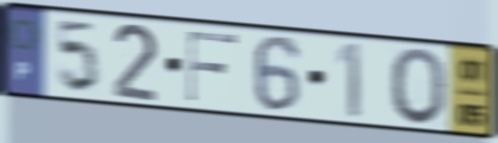1: (334, 39, 364, 122)
2: (112, 21, 159, 104)
5: (52, 17, 102, 95)
6: (251, 33, 303, 115)
F: (184, 29, 241, 106)
O: (388, 45, 448, 129)
